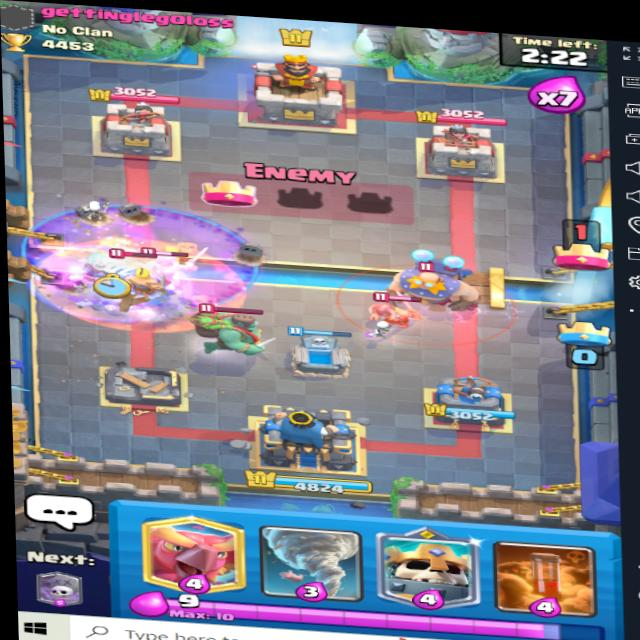electro-barbarians: (363, 284, 429, 333), (143, 248, 200, 282)
electro-giant: (386, 248, 499, 318)
goblin-giant: (189, 296, 275, 362)
sparky: (98, 250, 170, 304)
